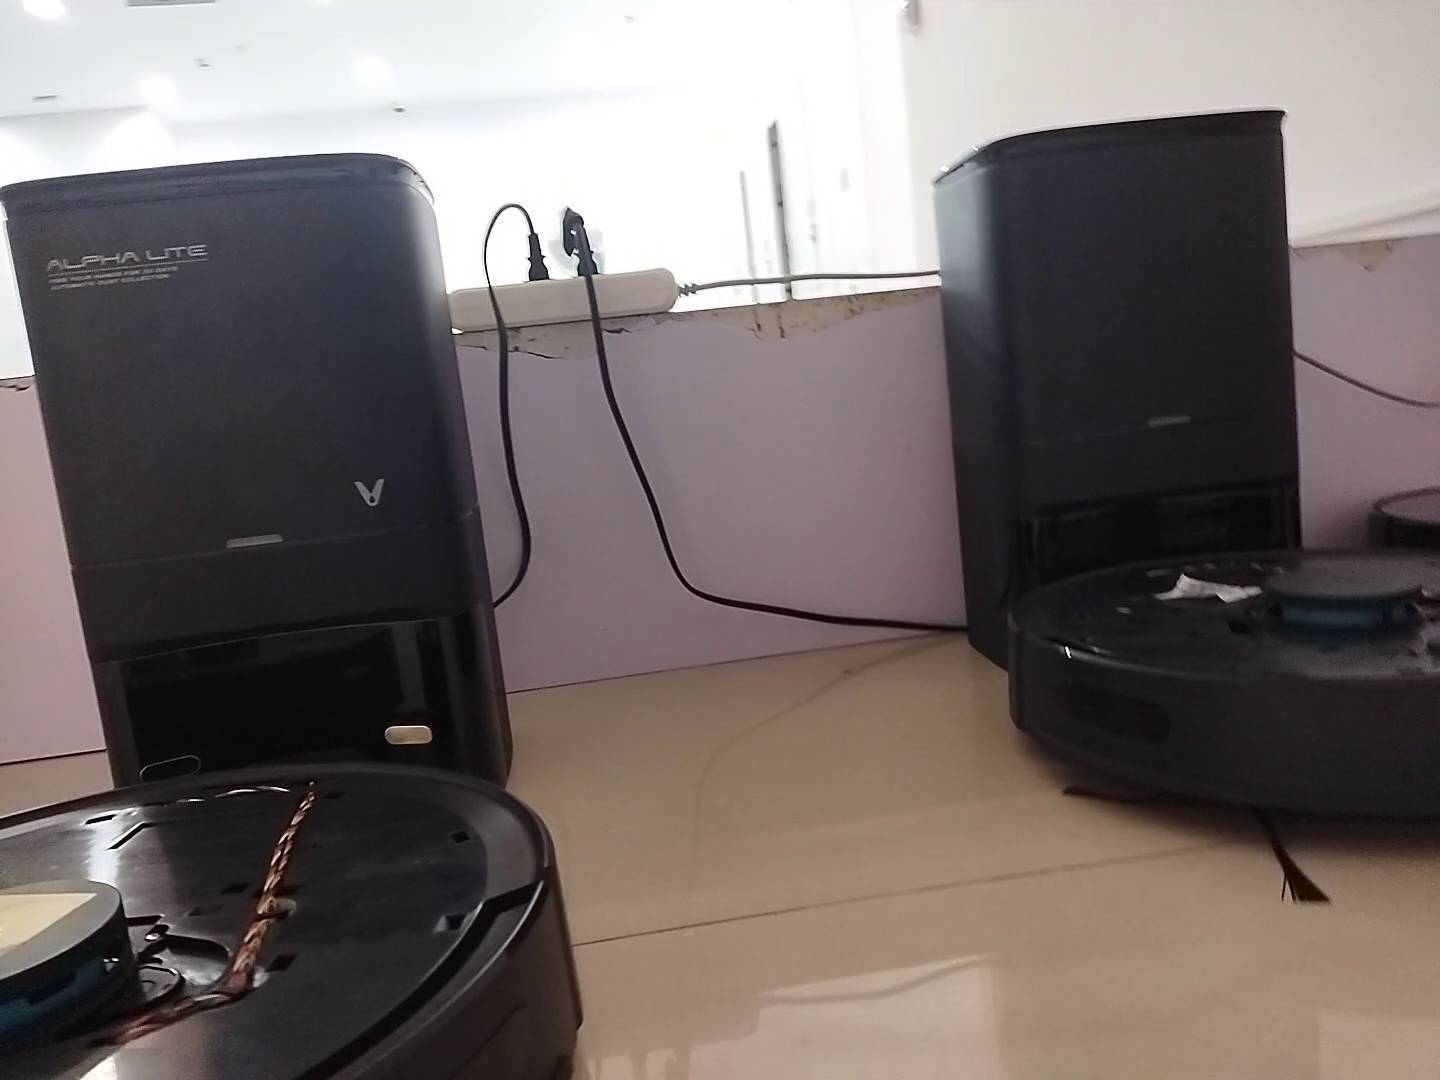dust collecting barrel: (1, 152, 514, 807), (932, 108, 1305, 665)
